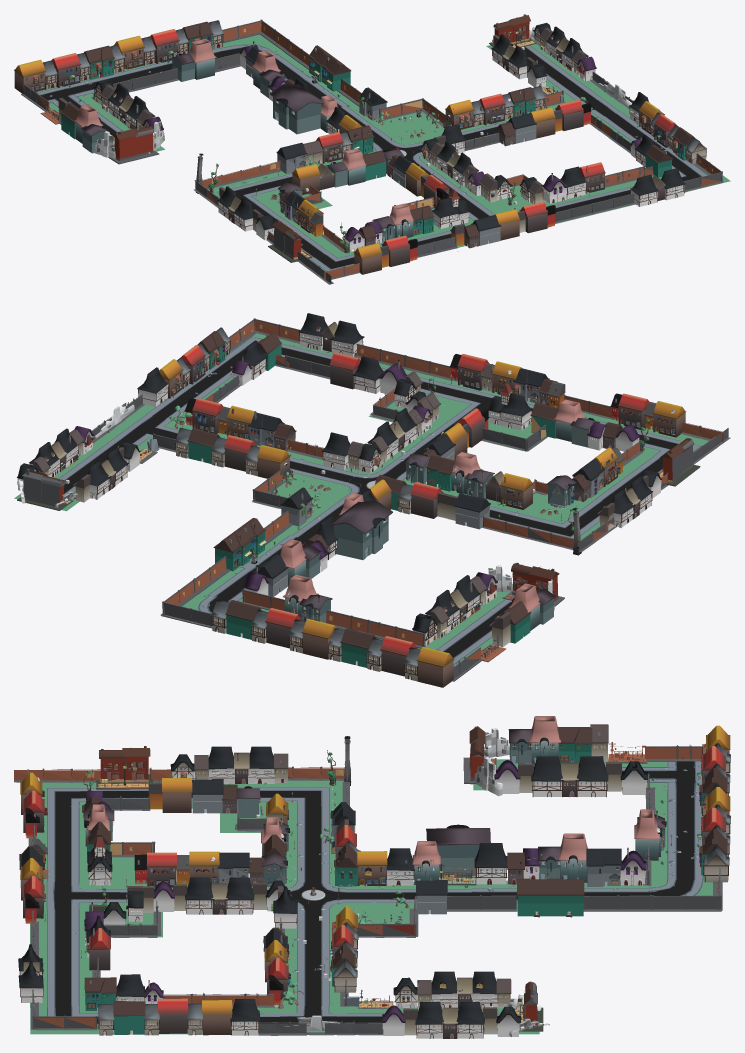
Rendered from City_test.glb.
3 views of the same model, one above another, from view 1: azimuth 30°, elevation 25°; view 2: azimuth 150°, elevation 25°; view 3: azimuth 270°, elevation 25° (orthographic). The views are drawn at different scales.
Visible parts, largest first — view 1: rubble_2.009, EA_Tr_Prop_Wall_Half_2b.002; view 2: rubble_2.009, EA_Tr_Prop_Wall_Half_2b.002; view 3: rubble_2.009, EA_Tr_Prop_Wall_Half_2b.002.
Part boxes in pixels (left/top/right/bottom): rubble_2.009: left=193, top=14, right=730, bottom=284; EA_Tr_Prop_Wall_Half_2b.002: left=14, top=19, right=361, bottom=164; rubble_2.009: left=14, top=313, right=730, bottom=555; EA_Tr_Prop_Wall_Half_2b.002: left=160, top=500, right=564, bottom=687; rubble_2.009: left=14, top=736, right=549, bottom=1038; EA_Tr_Prop_Wall_Half_2b.002: left=426, top=716, right=730, bottom=917.
Bounding box in the file's own units: 426 × 36.59 × 449.
Materials: 37 (2 with a texture image).
